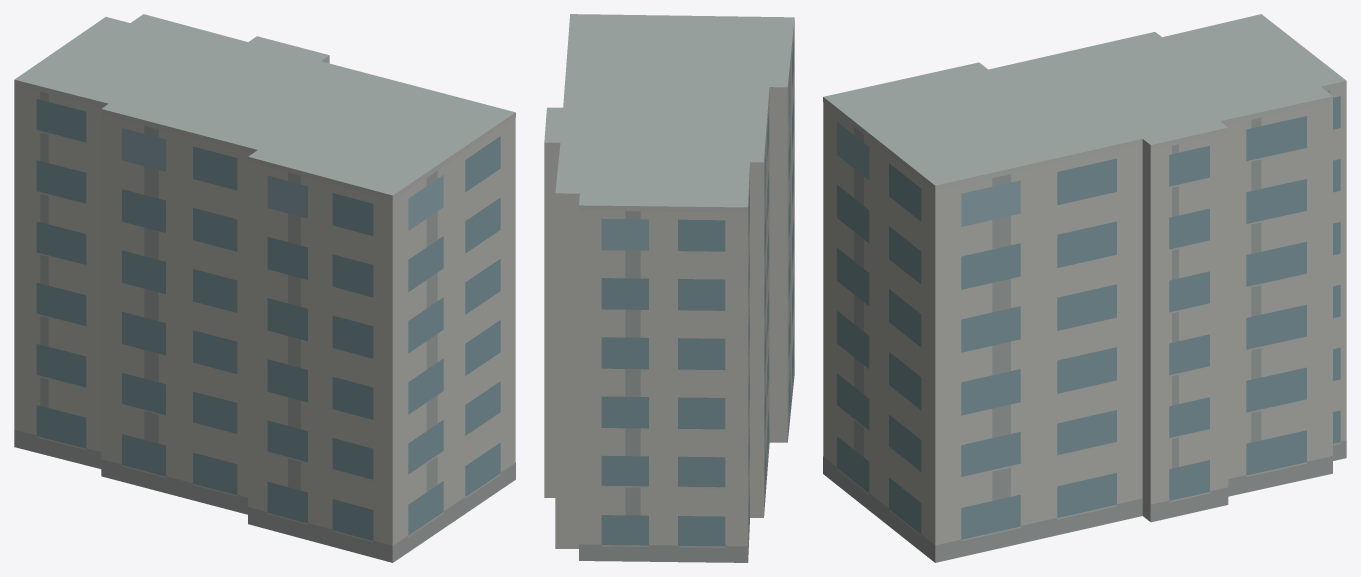
Rendered from survey-upis-32626962.glb.
3 views of the same model, side by side, from view 1: azimuth 30°, elevation 25°; view 2: azimuth 150°, elevation 25°; view 3: azimuth 270°, elevation 25° (orthographic). The views are drawn at different scales.
Visible parts, largest first — view 1: survey-upis-32626962.tmp; view 2: survey-upis-32626962.tmp; view 3: survey-upis-32626962.tmp.
Boxes of the visible parts, bbox=[...] form: survey-upis-32626962.tmp: bbox=[14, 14, 515, 562]; survey-upis-32626962.tmp: bbox=[544, 14, 794, 562]; survey-upis-32626962.tmp: bbox=[823, 14, 1346, 562].
Size of the model in its own units: 16.55 by 16.95 by 21.33.
